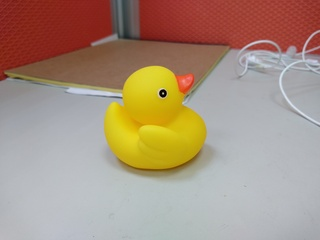duck: (98, 64, 216, 178)
